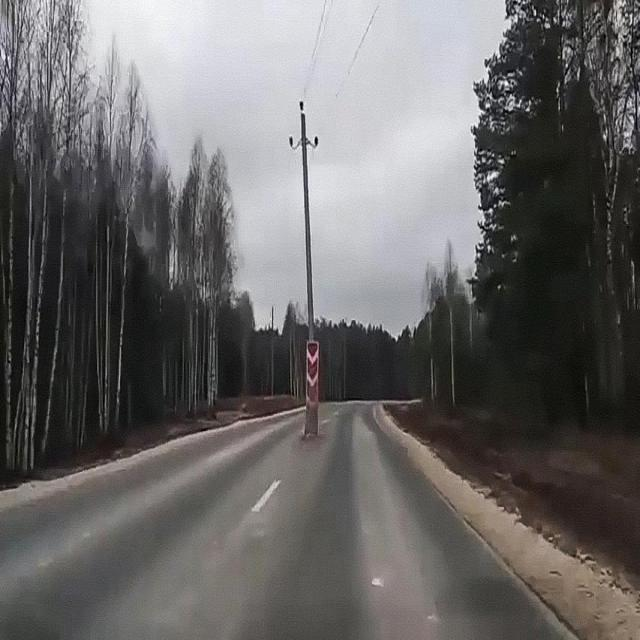pole: (296, 171, 322, 440)
